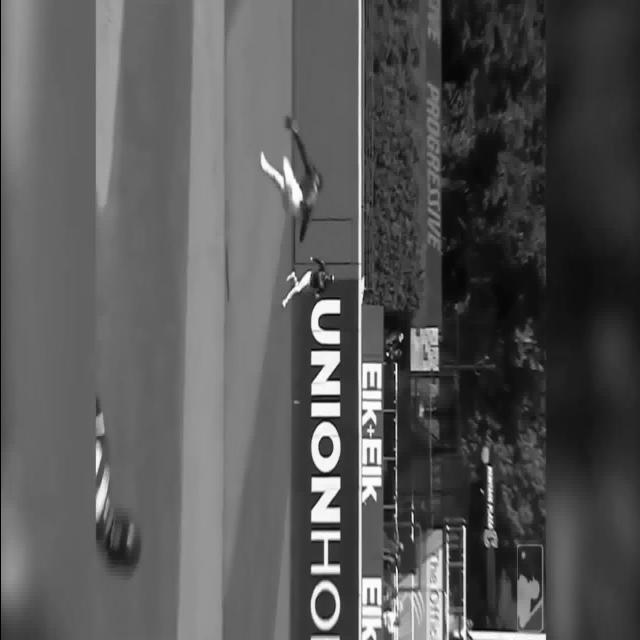baseball_glove: (285, 115, 296, 131)
shoe: (259, 151, 265, 171), (286, 271, 294, 281), (281, 298, 286, 308)
